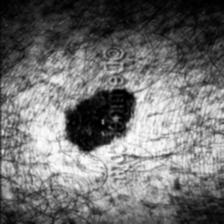Potentially Malignant Skin Tumors: (63, 88, 133, 152)
